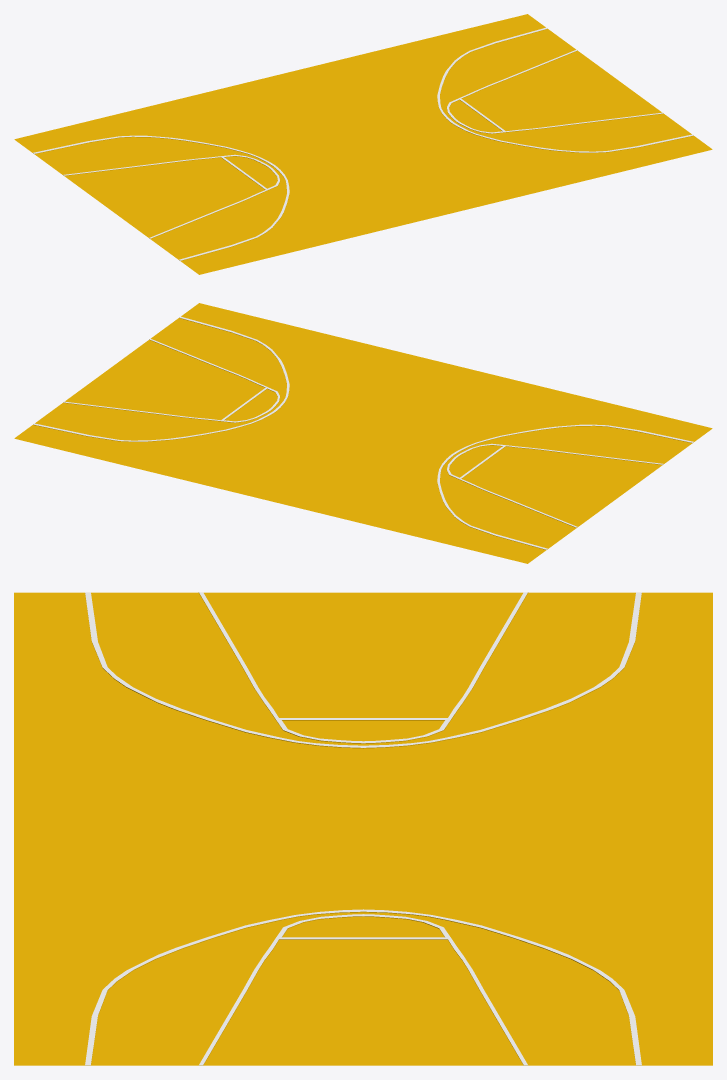
Rendered from saha3.fbx.
3 renders of one model, top to bottom at view 1: azimuth 30°, elevation 25°; view 2: azimuth 150°, elevation 25°; view 3: azimuth 270°, elevation 25°, orthographic. The views are drawn at different scales.
Visible parts, largest first — view 1: Plane; view 2: Plane; view 3: Plane.
Boxes of the visible parts, <box> form: Plane: <box>14,14,712,274</box>; Plane: <box>14,303,712,563</box>; Plane: <box>14,592,712,1065</box>.
Bounding box in the file's own units: 3138 × 1.84 × 1960.
